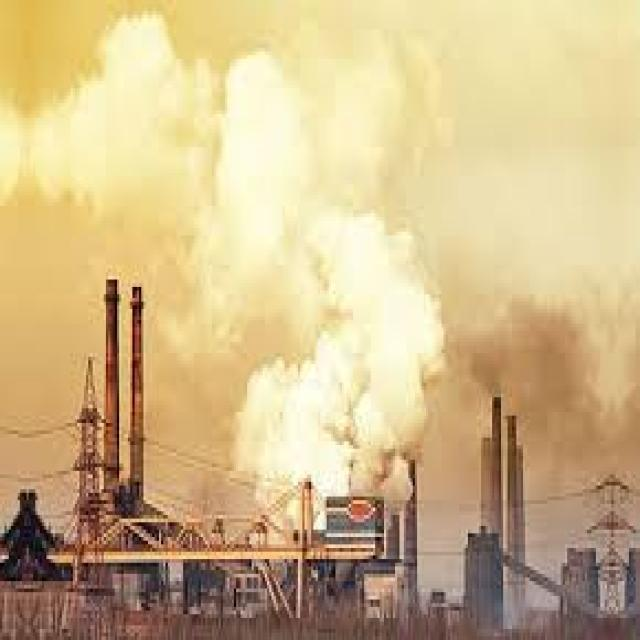Smoke: (220, 51, 444, 482), (0, 0, 218, 243)
